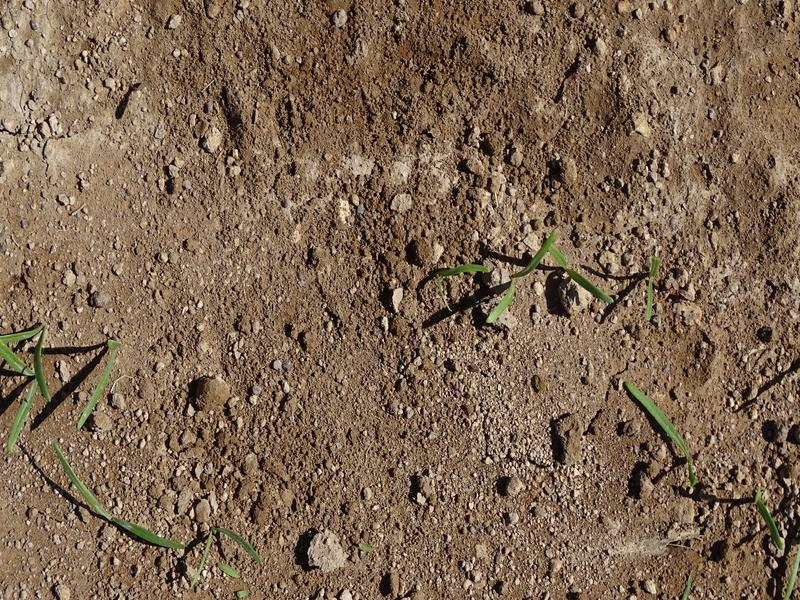Espinaca: (431, 239, 666, 324), (50, 443, 192, 555), (623, 379, 703, 487), (1, 316, 61, 456), (73, 333, 130, 432), (192, 522, 273, 580), (747, 486, 785, 551)
